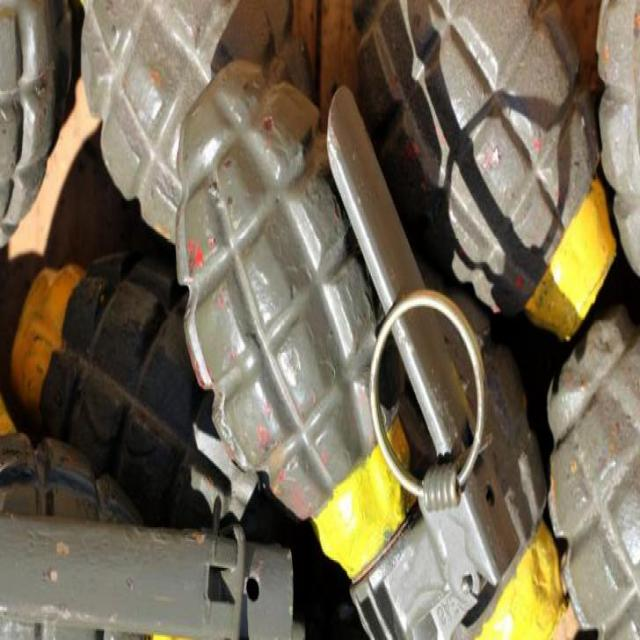grenade: (179, 54, 496, 640), (367, 3, 613, 345), (11, 257, 259, 527), (84, 3, 318, 251), (548, 302, 640, 640), (1, 3, 86, 270)
